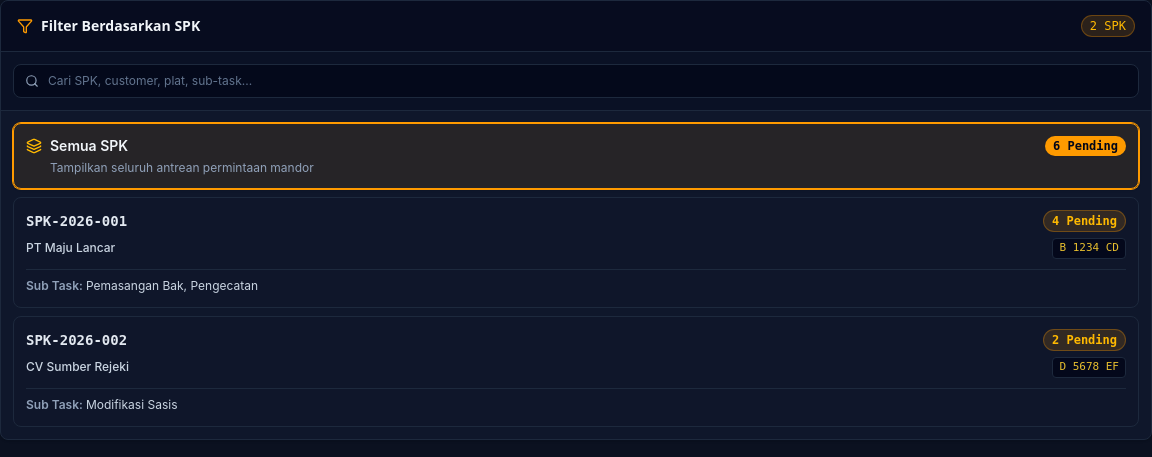
Test: Component: SpkFilterListBox › filters items in real-time when typing in search box
This screenshot has width=1152, height=457.
Type "Maju" into the field with placeholder "Cari SPK, customer, plat, sub-task..." at (576, 81), box [13, 64, 1139, 98]
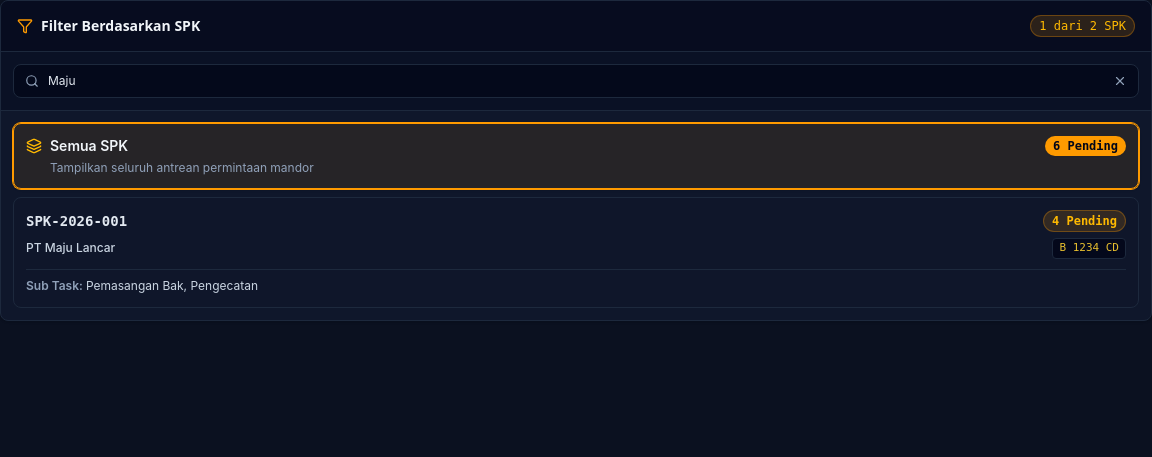
Check: the text "SPK-2026-001" is shown, box [26, 211, 127, 231]
Check: the text "SPK-2026-002" is gone
